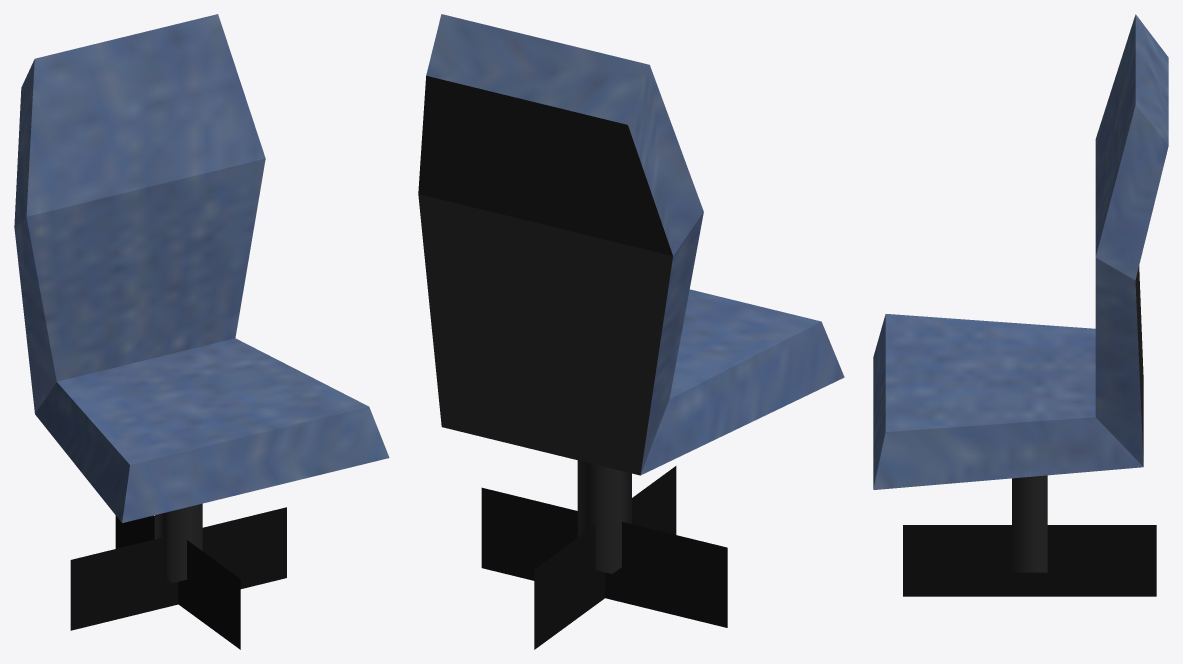
The model's file is Computer_chair_2.fbx.
3 renders of one model, left to right at view 1: azimuth 30°, elevation 25°; view 2: azimuth 150°, elevation 25°; view 3: azimuth 270°, elevation 25°, orthographic. The views are drawn at different scales.
Parts seen in each view (by area): view 1: Computerchair; view 2: Computerchair; view 3: Computerchair.
Boxes of the visible parts, x1,y1,x2,y2 form: Computerchair: (14,14,389,649); Computerchair: (418,14,844,649); Computerchair: (873,14,1168,596).
Bounding box in the file's own units: 0.8071 × 1.53 × 0.7615.
